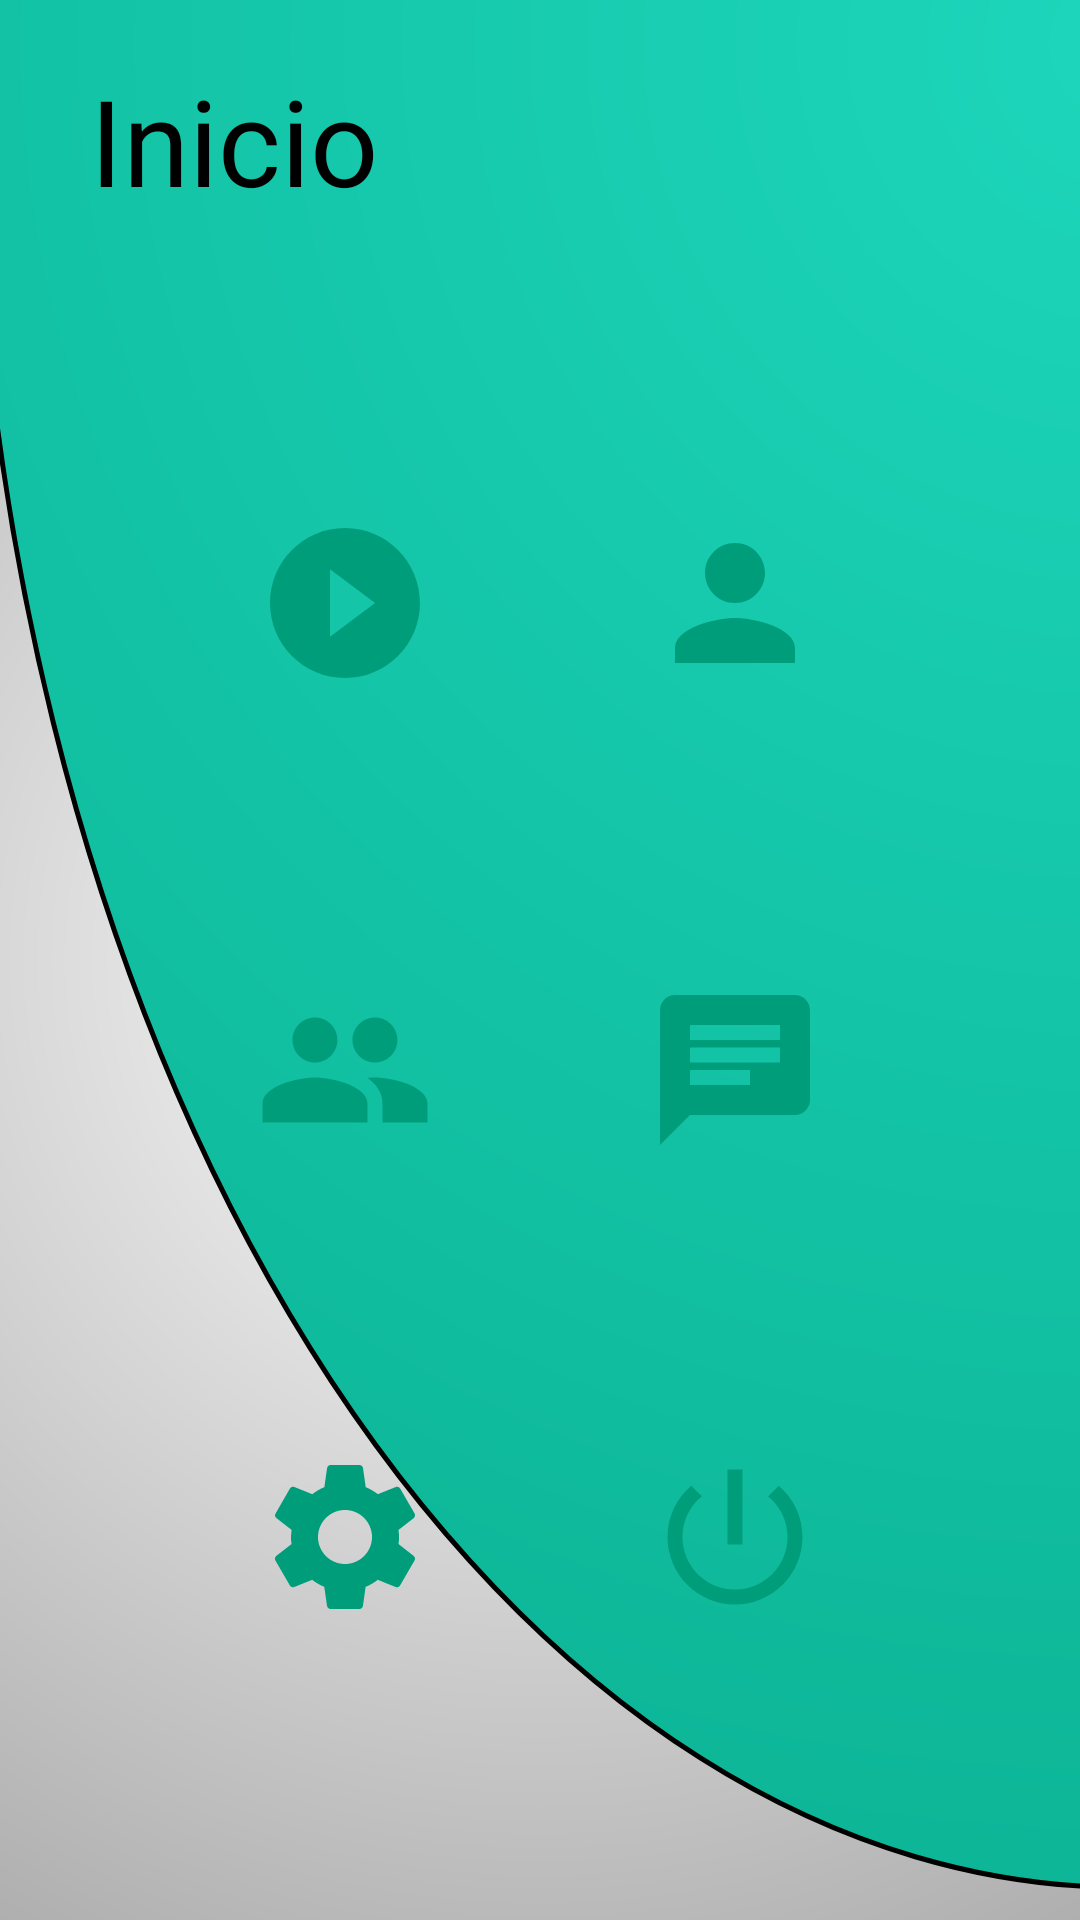

Where to tap for icons on this 1080 x 1920 app screen, as [x,y]:
chat: [735,1069]
play: [345,603]
profile: [735,603]
quit: [735,1537]
